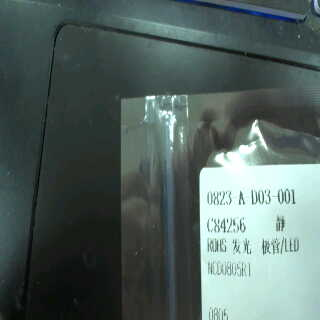LED: (230, 235, 304, 258)
